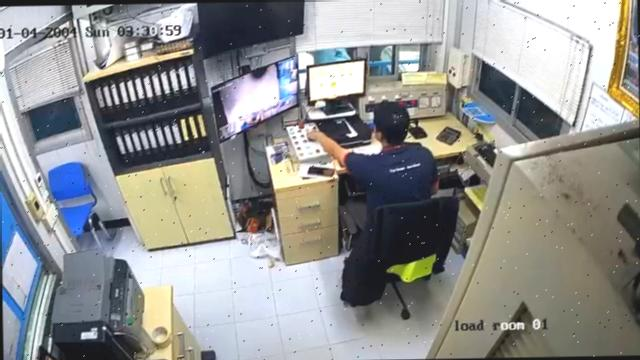Head: (372, 100, 409, 144)
People: (307, 101, 438, 217)
Phone: (306, 167, 333, 175)
